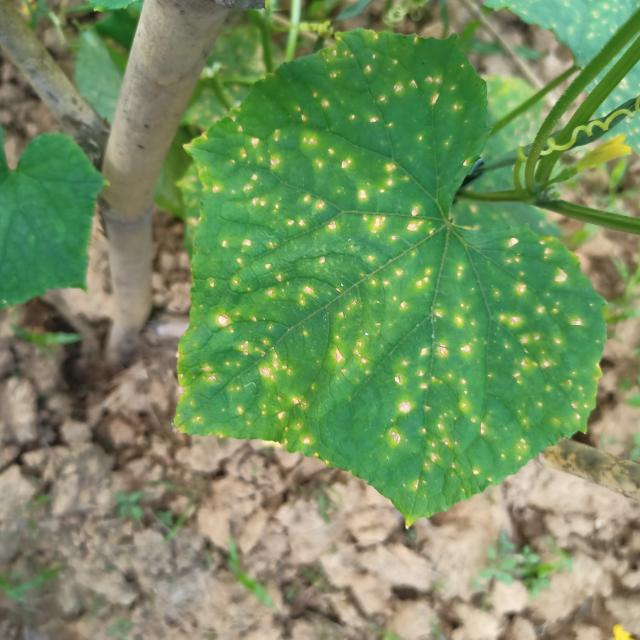disease_cucumber: (192, 31, 601, 493)
